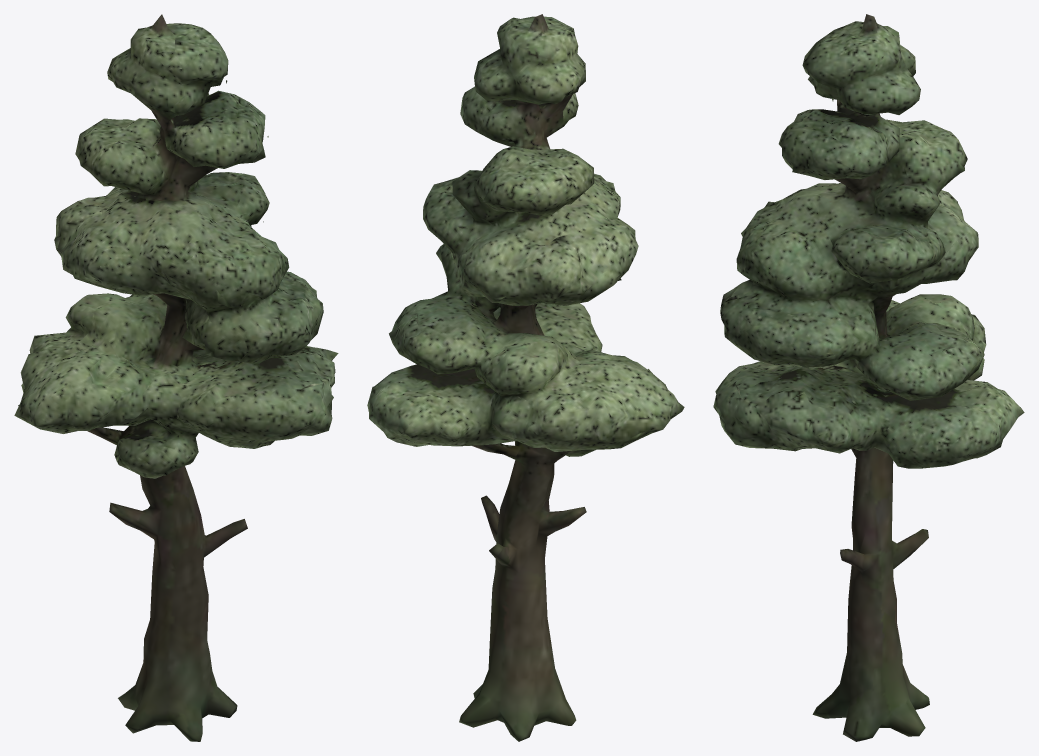
File: tree_tall_b_meshy.glb
3 renders of one model, left to right at view 1: azimuth 30°, elevation 25°; view 2: azimuth 150°, elevation 25°; view 3: azimuth 270°, elevation 25°, orthographic.
Parts seen in each view (by area): view 1: tree_tall_b_meshy_lod0; view 2: tree_tall_b_meshy_lod0; view 3: tree_tall_b_meshy_lod0.
Part boxes in pixels (x1,y1,x2,y2): tree_tall_b_meshy_lod0: (14, 14, 338, 741); tree_tall_b_meshy_lod0: (367, 14, 684, 741); tree_tall_b_meshy_lod0: (713, 14, 1024, 741).
Size of the model in its own units: 1.97 by 4.66 by 1.88.
Materials: 1 (1 with a texture image).
